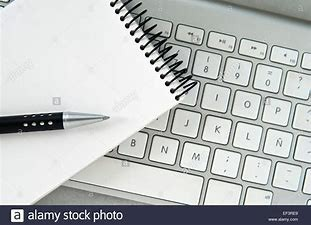pen: (1, 106, 109, 136)
